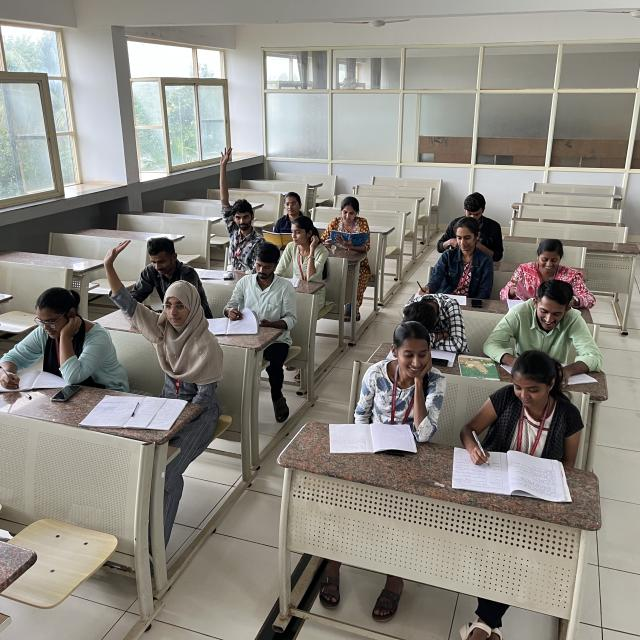Hand Rising: (107, 231, 214, 386), (210, 141, 268, 271)
Reading: (319, 190, 379, 263), (259, 184, 303, 244)
Sleeping: (378, 288, 470, 339)
Writing: (465, 356, 580, 475), (0, 280, 103, 402), (408, 219, 489, 299)
